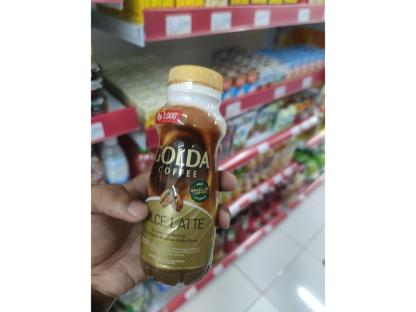Plastic Bottle: (134, 62, 238, 290)
